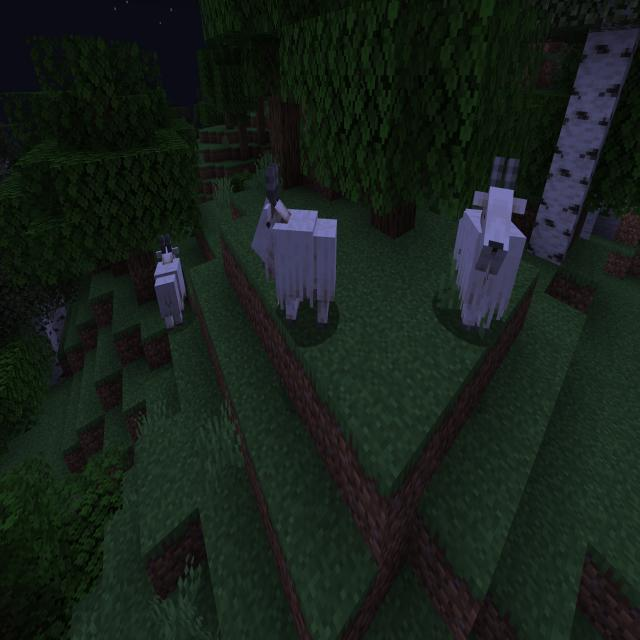Goat: (451, 148, 528, 345), (249, 161, 339, 328), (154, 232, 188, 334)
